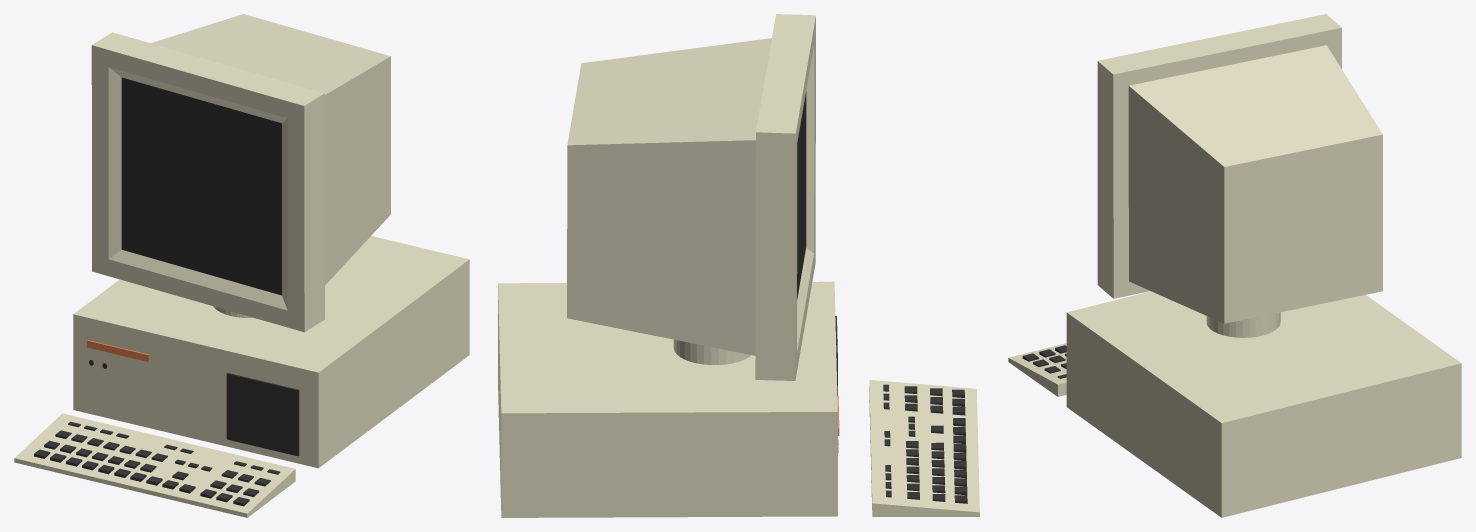
Rendered from Computer.glb.
The picture shows the model from 3 angles, left to right: view 1: azimuth 30°, elevation 25°; view 2: azimuth 150°, elevation 25°; view 3: azimuth 270°, elevation 25°; orthographic projection. The views are drawn at different scales.
Parts seen in each view (by area): view 1: Box20179, Box20242, Object001, Box20182, Box20181, Box20180; view 2: Box20242, Box20179, Box20182, Object001, Cylinder003; view 3: Box20242, Box20179, Box20182, Cylinder003.
Part boxes in pixels (x1=…): Box20179: x1=73, y1=236, x2=469, y2=468; Box20242: x1=91, y1=14, x2=390, y2=332; Object001: x1=121, y1=77, x2=281, y2=295; Box20182: x1=14, y1=413, x2=295, y2=517; Box20181: x1=226, y1=373, x2=299, y2=456; Box20180: x1=87, y1=340, x2=149, y2=361; Box20242: x1=567, y1=14, x2=815, y2=380; Box20179: x1=498, y1=281, x2=837, y2=517; Box20182: x1=869, y1=379, x2=979, y2=516; Object001: x1=797, y1=91, x2=806, y2=299; Cylinder003: x1=673, y1=339, x2=751, y2=364; Box20242: x1=1097, y1=14, x2=1382, y2=323; Box20179: x1=1066, y1=291, x2=1461, y2=517; Box20182: x1=1008, y1=343, x2=1066, y2=396; Cylinder003: x1=1206, y1=312, x2=1280, y2=337.
Size of the model in its own units: 694 by 524 by 615.
